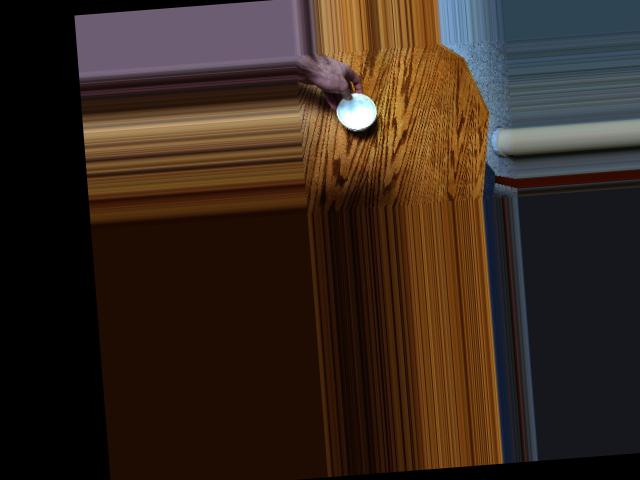cotage: (331, 83, 380, 131)
